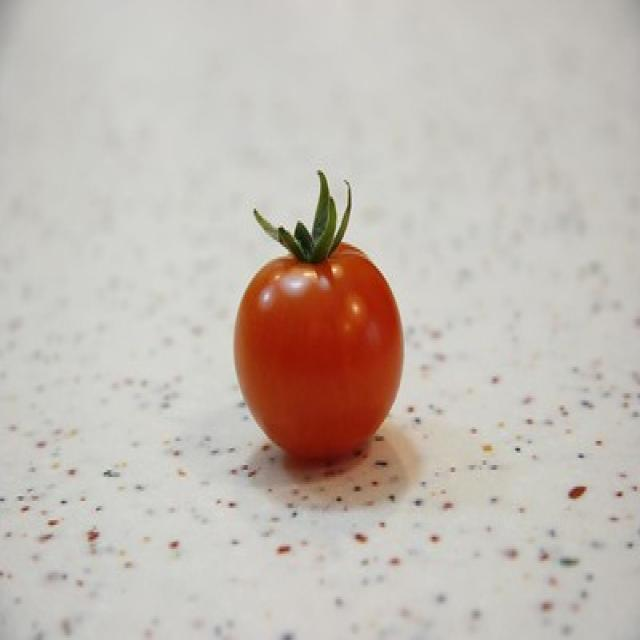Tomato: (230, 168, 410, 466)
